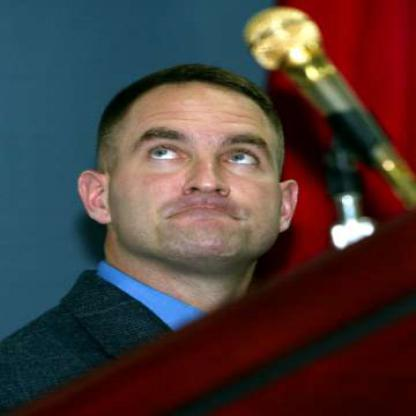face: (105, 69, 295, 274)
